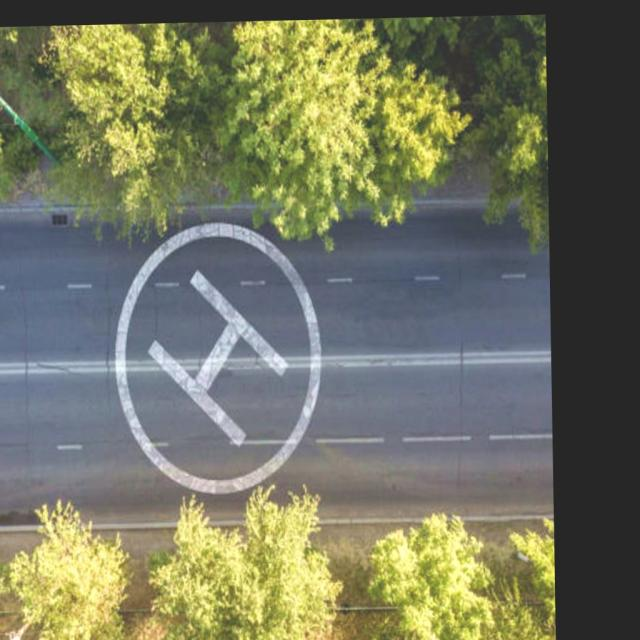helipad: (111, 217, 325, 497)
